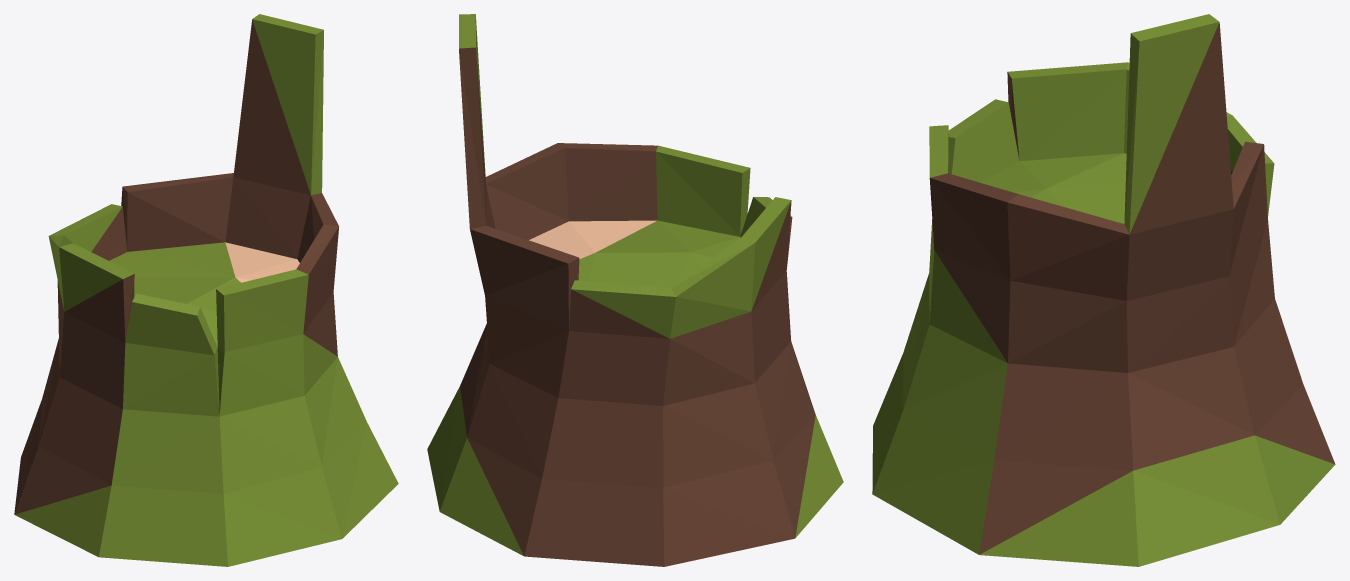
Rendered from TreeTrunk_4_Moss.fbx.
3 renders of one model, left to right at view 1: azimuth 30°, elevation 25°; view 2: azimuth 150°, elevation 25°; view 3: azimuth 270°, elevation 25°, orthographic. The views are drawn at different scales.
Visible parts, largest first — view 1: TreeTrunk_4_Moss; view 2: TreeTrunk_4_Moss; view 3: TreeTrunk_4_Moss.
Part boxes in pixels (x1,y1,x2,y2): TreeTrunk_4_Moss: (14,14,398,566); TreeTrunk_4_Moss: (427,14,843,566); TreeTrunk_4_Moss: (872,14,1335,566).
Size of the model in its own units: 0.8572 by 0.988 by 0.8152.
